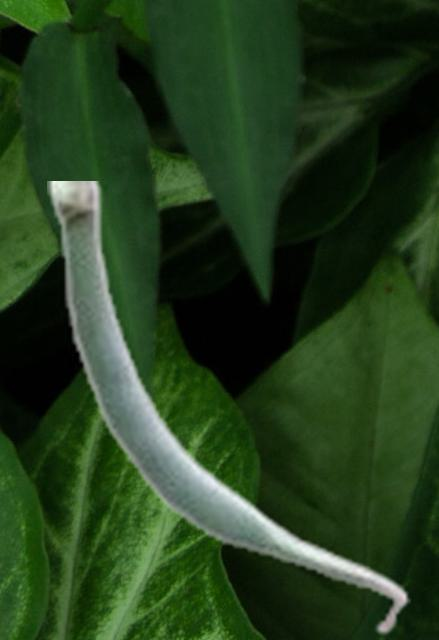french_bean: (47, 181, 409, 637)
